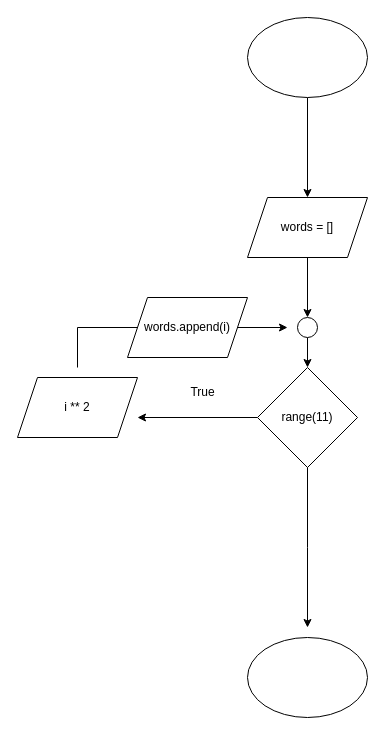
Image size: 385x735. Some labels were removed from this diagram. Each missing label, with the centre of its shape:
END: the point at 307,677
START: the point at 307,57
